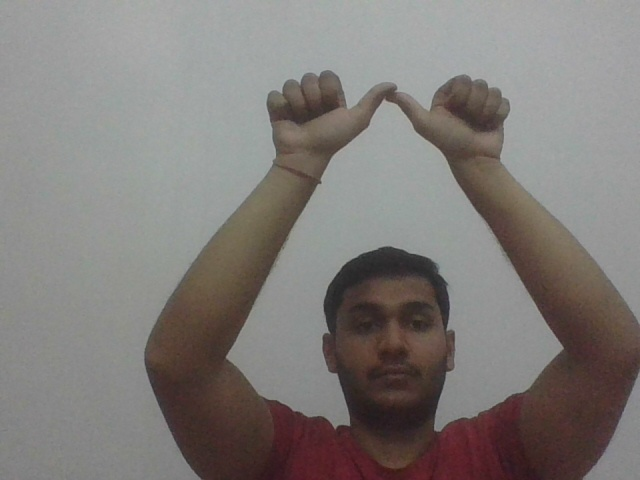A: (263, 69, 516, 162)
